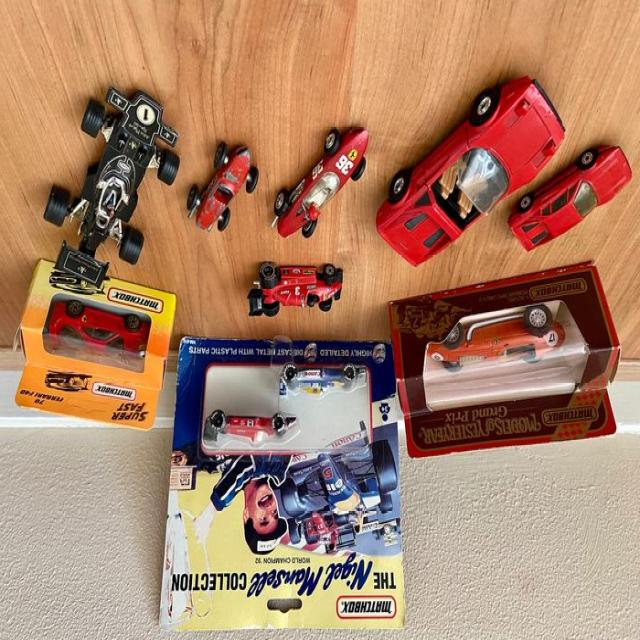Car: (376, 76, 567, 268), (508, 145, 633, 254), (271, 128, 370, 240), (427, 305, 566, 374), (47, 300, 151, 358)
